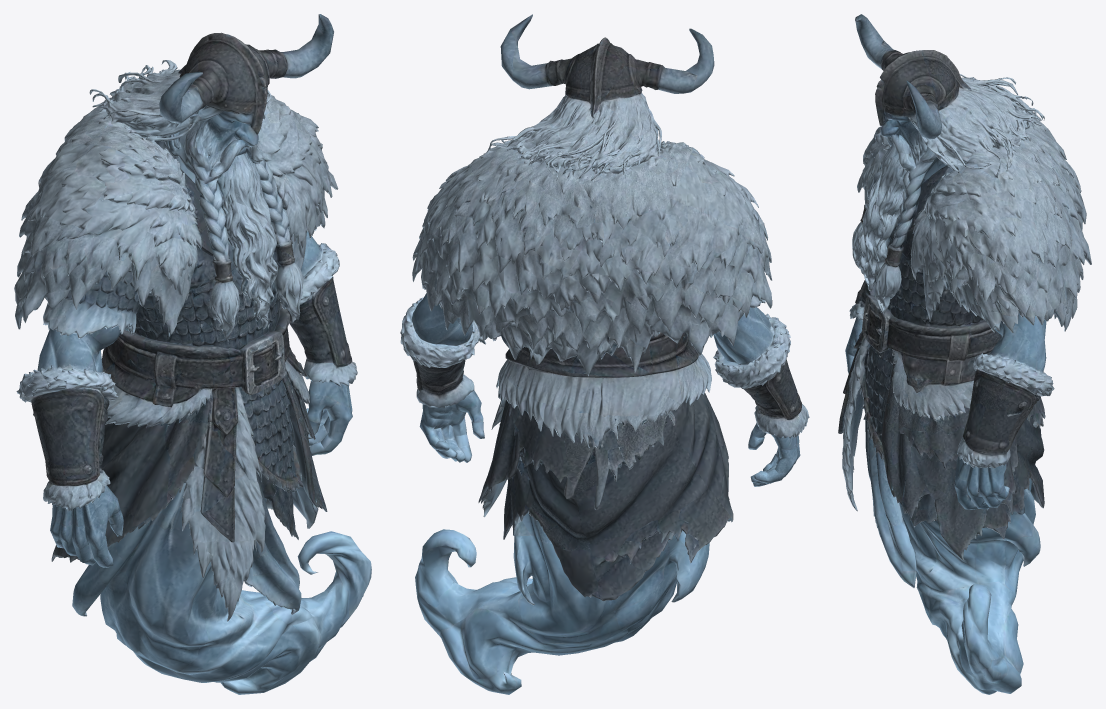
The model's file is ghost-wraithB.glb.
The picture shows the model from 3 angles, left to right: view 1: azimuth 30°, elevation 25°; view 2: azimuth 150°, elevation 25°; view 3: azimuth 270°, elevation 25°; orthographic projection. The views are drawn at different scales.
Size of the model in its own units: 1.05 by 1.9 by 0.7088.
1 material, 1 textured.
